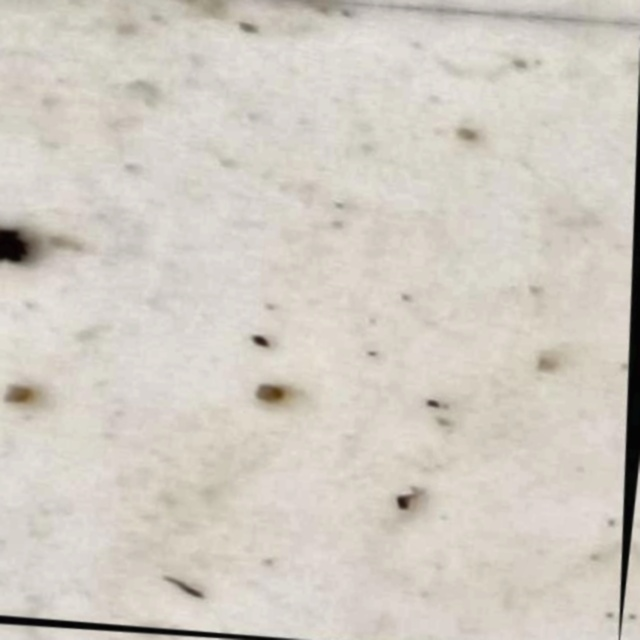varroa: (5, 222, 40, 269)
